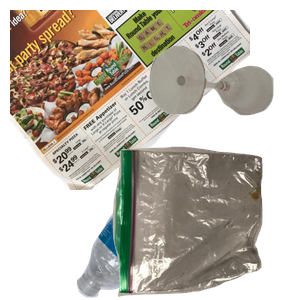glass: (147, 43, 300, 151)
paper: (10, 10, 250, 190)
plastic: (74, 156, 280, 300)
trash: (110, 144, 300, 300)
